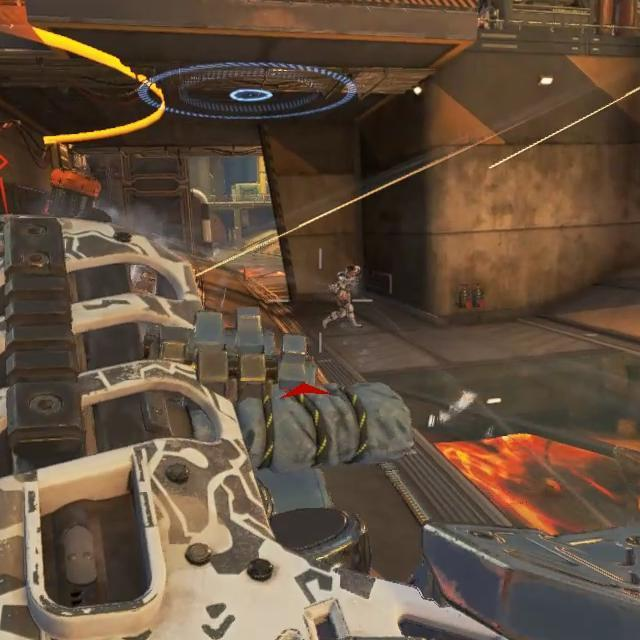avatar: (320, 261, 361, 332)
